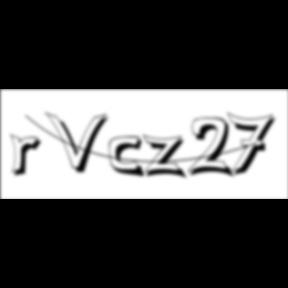2: (188, 117, 238, 181)
7: (226, 111, 282, 179)
V: (46, 110, 112, 176)
c: (110, 136, 150, 180)
r: (10, 134, 48, 180)
z: (143, 134, 192, 182)
